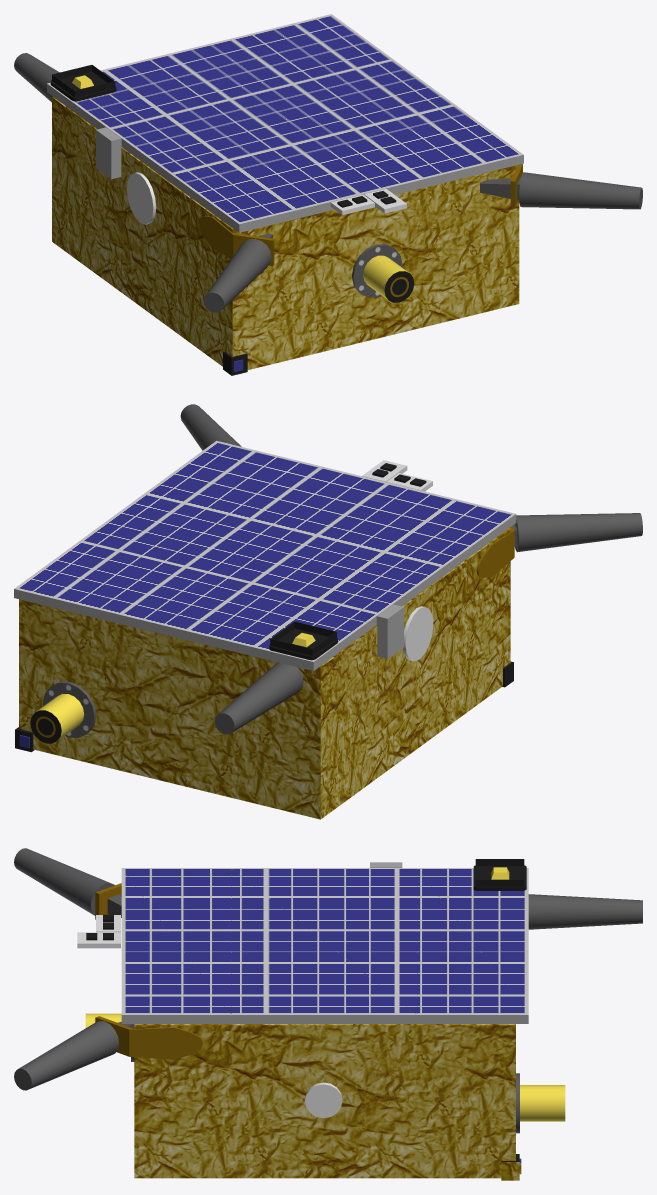
The picture shows the model from 3 angles, top to bottom: view 1: azimuth 30°, elevation 25°; view 2: azimuth 150°, elevation 25°; view 3: azimuth 270°, elevation 25°; orthographic projection. The views are drawn at different scales.
Visible parts, largest first — view 1: Tango; view 2: Tango; view 3: Tango.
Part boxes in pixels (box(x1,y1,x2,y2)): Tango: box(14, 14, 642, 375); Tango: box(14, 404, 642, 819); Tango: box(14, 848, 642, 1180).
Size of the model in its own units: 114 by 41.08 by 134.
